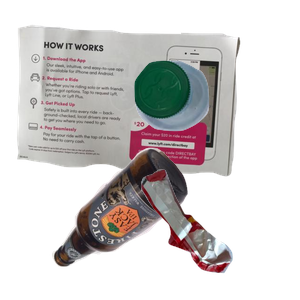glass: (49, 145, 229, 300)
paper: (14, 22, 247, 191)
plastic: (132, 58, 300, 182)
trash: (139, 167, 300, 300)
